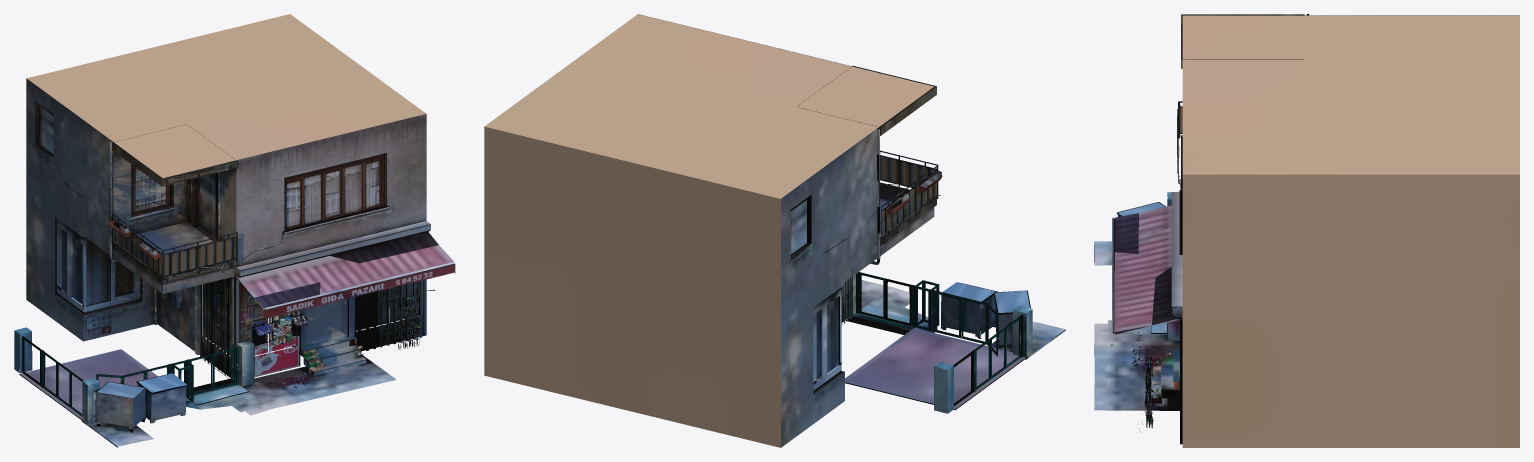
File: bakkal-compressed.glb
3 views of the same model, side by side, from view 1: azimuth 30°, elevation 25°; view 2: azimuth 150°, elevation 25°; view 3: azimuth 270°, elevation 25° (orthographic). The views are drawn at different scales.
Parts seen in each view (by area): view 1: bakkal; view 2: bakkal; view 3: bakkal.
Part boxes in pixels (x1,y1,x2,y2): bakkal: [14, 14, 455, 447]; bakkal: [484, 14, 1065, 447]; bakkal: [1094, 14, 1519, 447].
Size of the model in its own units: 5.24 by 3.25 by 4.53.
1 material, 1 textured.
